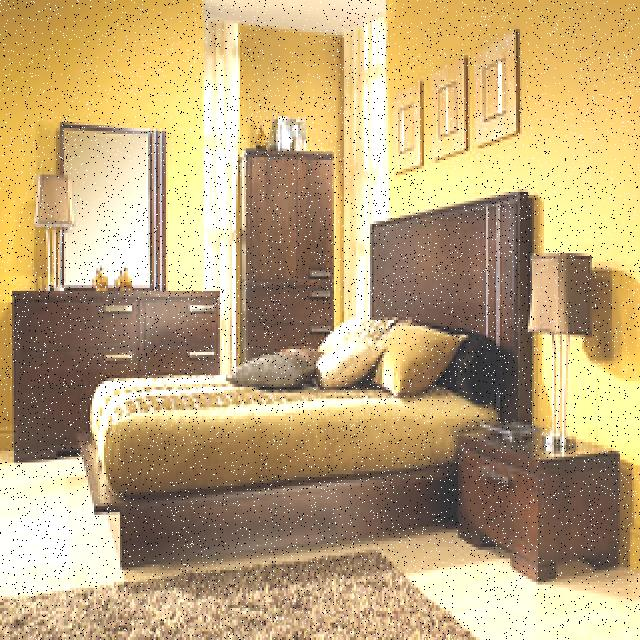bed: (78, 313, 492, 542)
